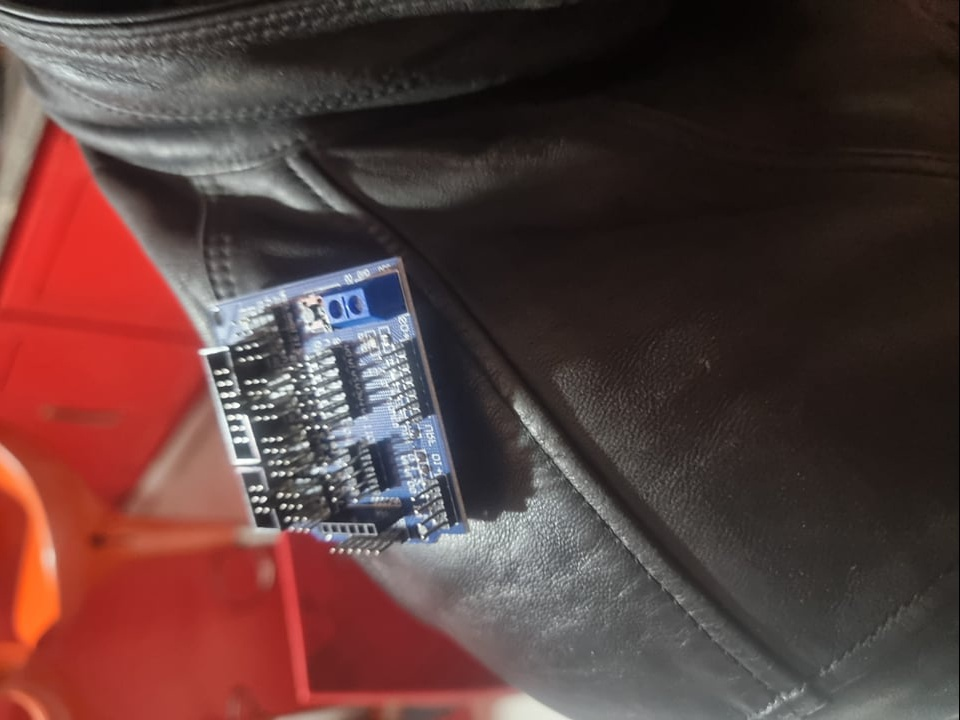5V EXPANSION: (199, 251, 472, 561)
